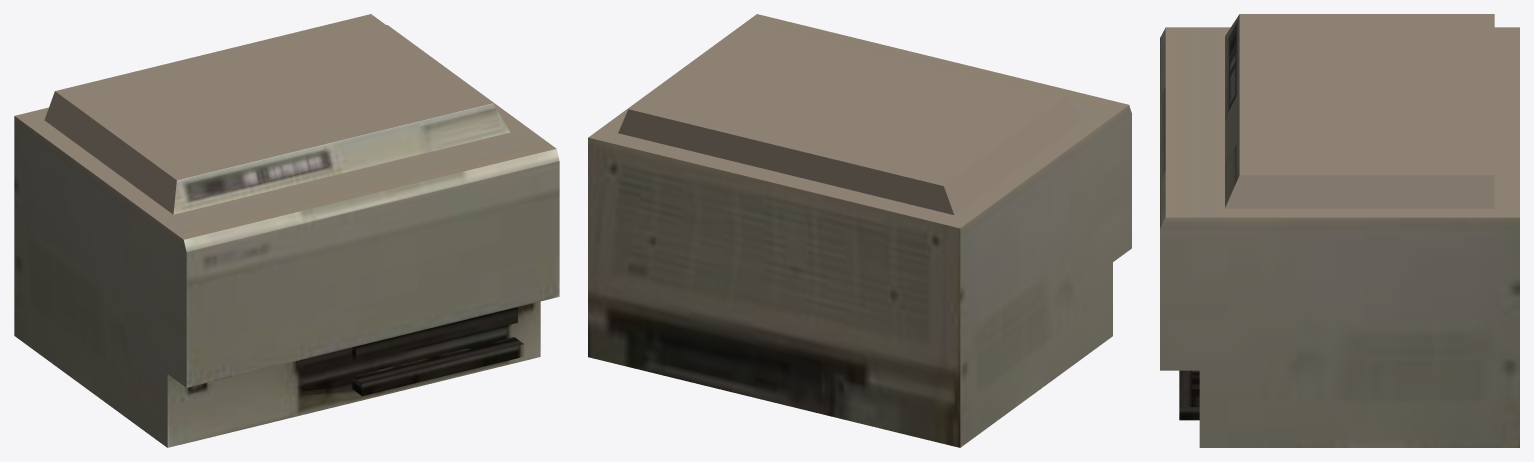
The model's file is printer.FBX.
3 views of the same model, side by side, from view 1: azimuth 30°, elevation 25°; view 2: azimuth 150°, elevation 25°; view 3: azimuth 270°, elevation 25° (orthographic). The views are drawn at different scales.
Parts seen in each view (by area): view 1: printer; view 2: printer; view 3: printer.
Part boxes in pixels (box(x1,y1,x2,y2)): printer: box(14, 14, 559, 447); printer: box(588, 14, 1131, 447); printer: box(1160, 14, 1519, 447).
Bounding box in the file's own units: 64.99 × 41.07 × 51.91.
